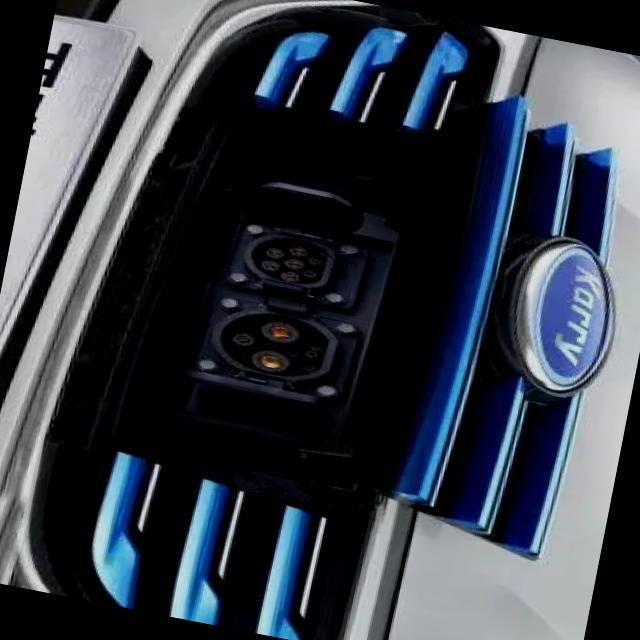GB-T: (207, 309, 362, 385)
